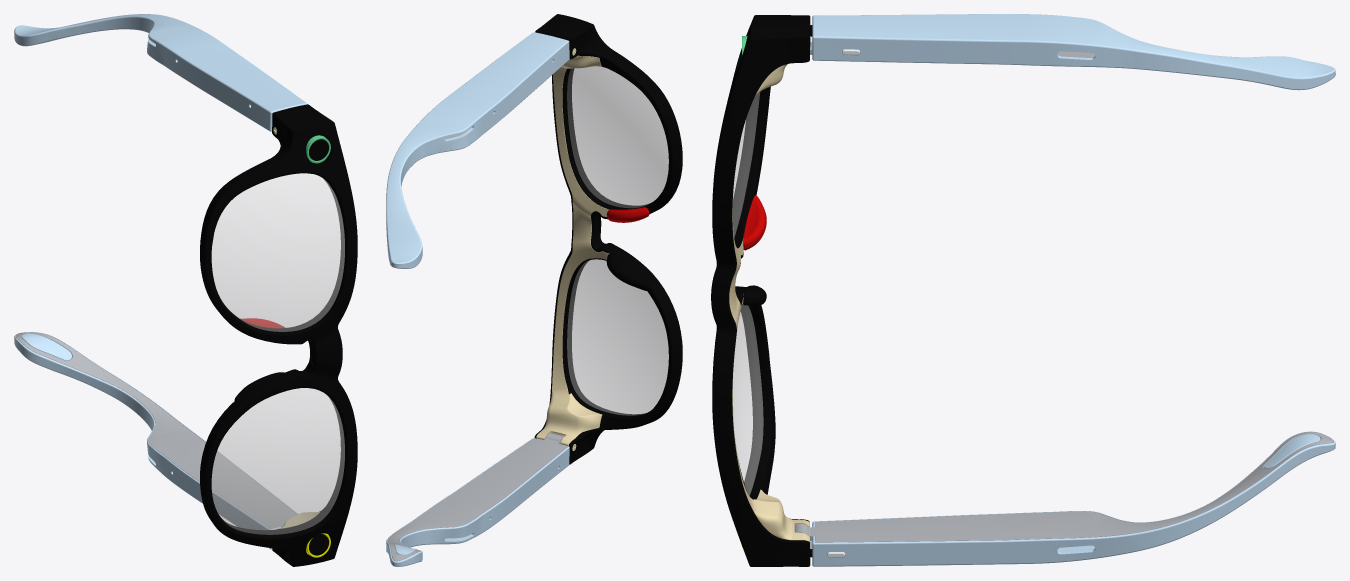
File: glasses.glb
The picture shows the model from 3 angles, left to right: view 1: azimuth 30°, elevation 25°; view 2: azimuth 150°, elevation 25°; view 3: azimuth 270°, elevation 25°; orthographic projection. The views are drawn at different scales.
Visible parts, largest first — view 1: K900-glb-LFG; view 2: K900-glb-LFG; view 3: K900-glb-LFG.
Part boxes in pixels (box(x1,y1,x2,y2)): K900-glb-LFG: box(14, 14, 357, 566); K900-glb-LFG: box(386, 14, 682, 566); K900-glb-LFG: box(711, 14, 1335, 566).
Size of the model in its own units: 0.0513 by 0.1537 by 0.1634.
